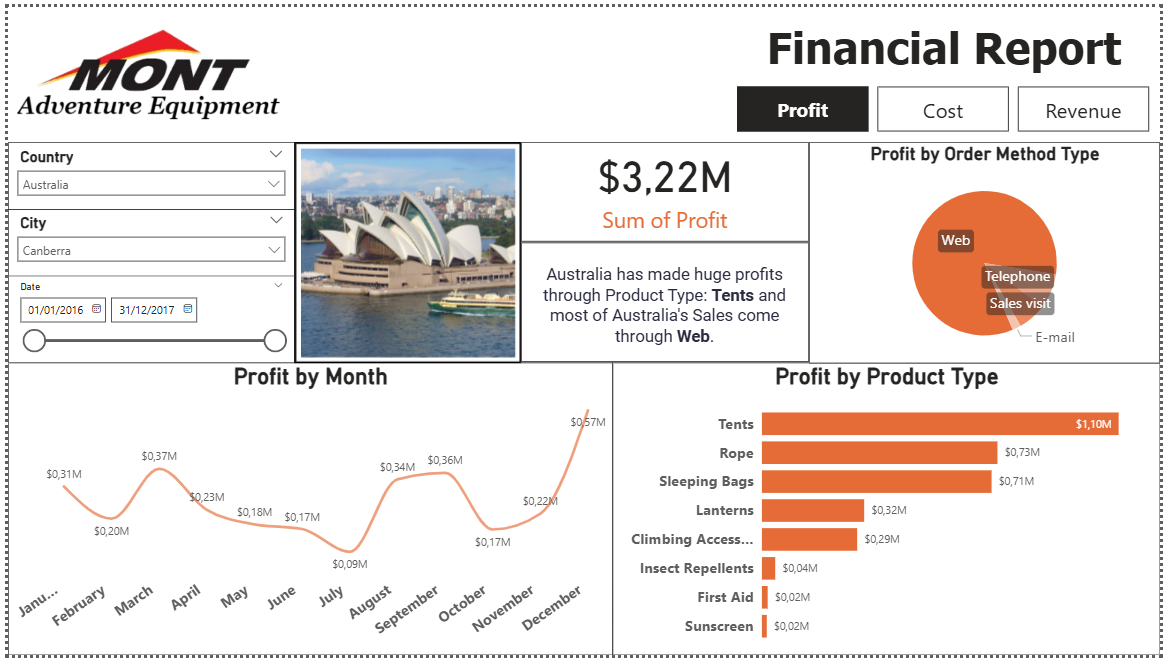

The page's visual inventory and layout, read from the dashboard file:
{"tool":"powerbi","page":{"name":"Profit","canvas":[1280,720],"ordinal":0},"visuals":[{"type":"lineChart","title":"Profit by Month","fields":{"Y":["Sum(Sales Table.Profit)"],"Category":["Sales Table.Date.Variation.Date Hierarchy.Month"]},"box":[0,395,671.7,325],"z":0},{"type":"barChart","title":"Profit by Product Type","fields":{"Category":["Product Table.Product type"],"Y":["Sum(Sales Table.Profit)"]},"box":[671.2,395,608.8,325],"z":1000},{"type":"textbox","box":[569.8,261.7,319.7,132.5],"z":2000},{"type":"slicer","fields":{"Values":["Country Table. City"]},"box":[0,223.8,318.8,77.5],"z":3000},{"type":"textbox","box":[810,10.5,460,73.3],"z":3500},{"type":"slicer","fields":{"Values":["Country Image.Country"]},"box":[0,150,318.3,75],"z":4000},{"type":"pageNavigator","box":[810.4,88.2,460,50],"z":5000},{"type":"slicer","fields":{"Values":["Sales Table.Date"]},"box":[0,298.6,318.6,97.1],"z":6000},{"type":"image","box":[5,0,303.3,150],"z":7000},{"type":"pieChart","title":"Profit by Order Method Type","fields":{"Category":["Sales Table.Order method type"],"Y":["Sum(Sales Table.Profit)"]},"box":[890,150,390,246],"z":9000},{"type":"card","fields":{"Values":["Sum(Sales Table.Profit)"]},"box":[569.8,150.7,319.7,111],"z":11000},{"type":"simpleImageEBC4593F96F1425FB3D84C5BF02B5075","fields":{"imageURL":["Country Image.ImageURL"]},"box":[318,150,252,246],"z":12000}]}

Visuals, with their boxes in screenshot pixels (x1, y1, x2, y2), scaled from the page's 1280x720 canvas onto the 1168x661 screenshot:
"Profit by Month" lineChart: 0/363/613/660
"Profit by Product Type" barChart: 612/363/1167/660
textbox: 520/240/812/362
slicer - Country Table. City: 0/205/291/277
textbox: 739/10/1159/77
slicer - Country Image.Country: 0/138/290/207
pageNavigator: 739/81/1159/127
slicer - Sales Table.Date: 0/274/291/363
image: 5/0/281/138
"Profit by Order Method Type" pieChart: 812/138/1167/364
card - Sum(Sales Table.Profit): 520/138/812/240
simpleImageEBC4593F96F1425FB3D84C5BF02B5075 - Country Image.ImageURL: 290/138/520/364
